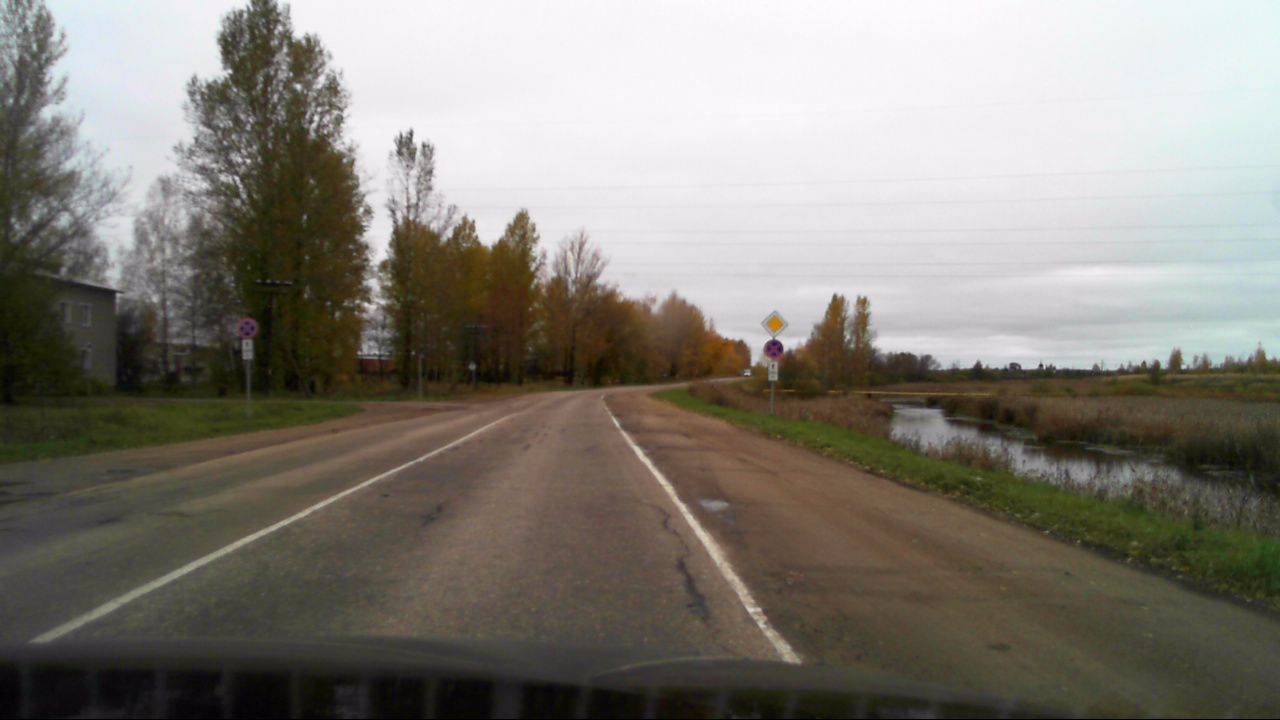No Parking: (764, 340, 784, 359)
